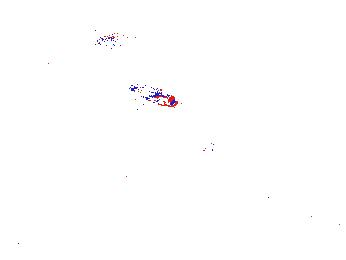X-ray fish: (295, 219, 336, 243), (201, 138, 228, 162)
red belly glassfish: (131, 82, 181, 109), (94, 29, 142, 48), (125, 96, 144, 113)
